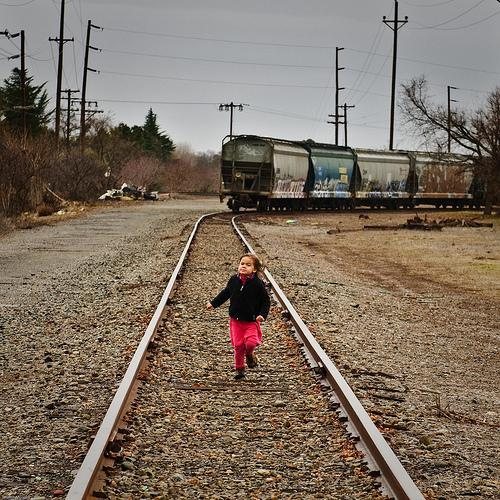person: (210, 254, 273, 383)
